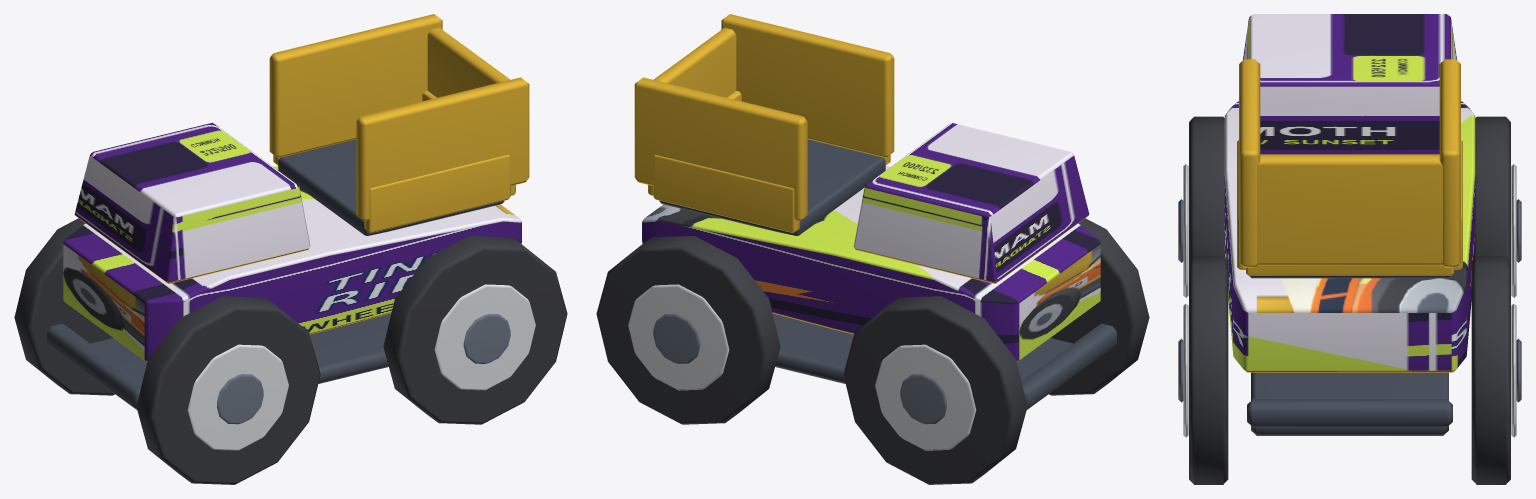
3 views of the same model, side by side, from view 1: azimuth 30°, elevation 25°; view 2: azimuth 150°, elevation 25°; view 3: azimuth 270°, elevation 25° (orthographic). The views are drawn at different scales.
Visible parts, largest first — view 1: BW-04_connected_shell, BW-04_cabin, Tire, Tire.002, raised tipper wall.001, raised tipper wall, Tire.001, cargo side, Rim, Rim.002, underbody, cargo floor (+4 smaller); view 2: BW-04_connected_shell, BW-04_cabin, Tire.001, Tire.003, raised tipper wall, raised tipper wall.001, Tire, cargo side.001, Rim.001, Rim.003, underbody, cargo floor (+4 smaller); view 3: BW-04_connected_shell, BW-04_cabin, raised tail gate, Tire.002, Tire.003, underbody, rear bumper, Tire, Tire.001, raised tipper wall, raised tipper wall.001, cargo tail (+7 smaller).
Part boxes in pixels (x1,y1,x2,y2): BW-04_connected_shell: [63, 166, 521, 361]; BW-04_cabin: [74, 122, 310, 283]; Tire: [136, 296, 320, 484]; Tire.002: [383, 236, 567, 424]; raised tipper wall.001: [269, 14, 442, 157]; raised tipper wall: [356, 77, 529, 221]; Tire.001: [14, 218, 114, 395]; cargo side: [364, 154, 510, 232]; Rim: [187, 344, 288, 450]; Rim.002: [434, 284, 535, 390]; underbody: [91, 313, 391, 383]; cargo floor: [278, 139, 504, 235]; BW-04_connected_shell: [642, 166, 1100, 361]; BW-04_cabin: [853, 122, 1089, 283]; Tire.001: [843, 296, 1027, 484]; Tire.003: [596, 236, 780, 424]; raised tipper wall: [721, 14, 894, 157]; raised tipper wall.001: [634, 77, 807, 221]; Tire: [1049, 218, 1149, 395]; cargo side.001: [653, 154, 799, 232]; Rim.001: [875, 344, 976, 450]; Rim.003: [628, 284, 729, 390]; underbody: [772, 313, 1072, 383]; cargo floor: [659, 139, 885, 235]; BW-04_connected_shell: [1224, 101, 1475, 372]; BW-04_cabin: [1242, 14, 1457, 154]; raised tail gate: [1257, 154, 1442, 265]; Tire.002: [1189, 256, 1228, 484]; Tire.003: [1471, 256, 1510, 484]; underbody: [1251, 372, 1448, 435]; rear bumper: [1247, 399, 1452, 427]; Tire: [1189, 116, 1224, 260]; Tire.001: [1475, 116, 1510, 260]; raised tipper wall: [1239, 59, 1260, 267]; raised tipper wall.001: [1439, 59, 1460, 267]; cargo tail: [1246, 265, 1453, 275].
Size of the model in its own units: 370 by 264 by 227.
